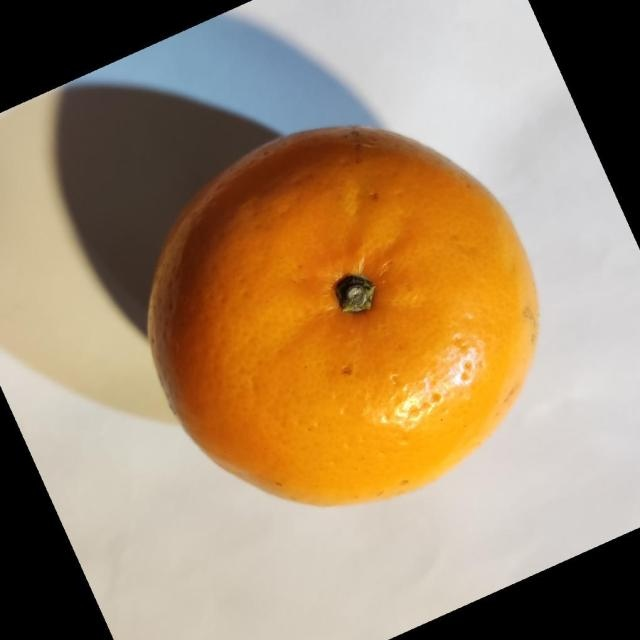agrume: (145, 124, 539, 507)
